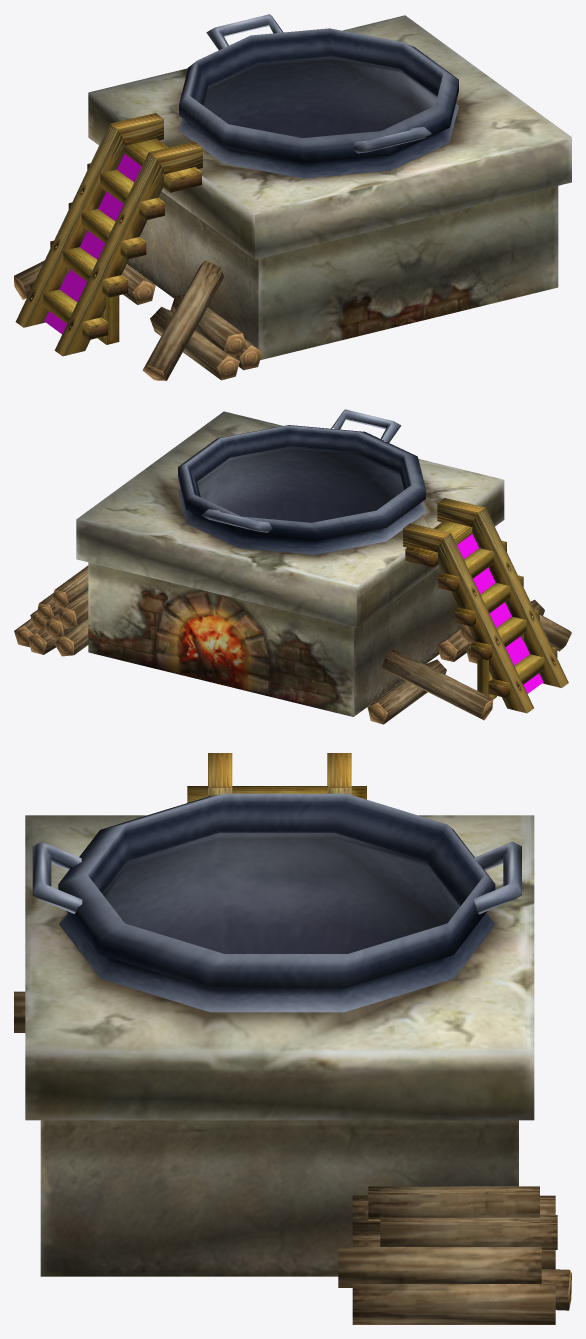
The model's file is a_SWAbath01.glb.
3 renders of one model, top to bottom at view 1: azimuth 30°, elevation 25°; view 2: azimuth 150°, elevation 25°; view 3: azimuth 270°, elevation 25°, orthographic. The views are drawn at different scales.
Visible parts, largest first — view 1: a_SWAbath01; view 2: a_SWAbath01; view 3: a_SWAbath01.
Boxes of the visible parts, x1,y1,x2,y2 form: a_SWAbath01: [14, 14, 571, 380]; a_SWAbath01: [14, 409, 571, 724]; a_SWAbath01: [14, 753, 571, 1324].
Size of the model in its own units: 5.72 by 2.14 by 3.53.
3 materials, 3 textured.
